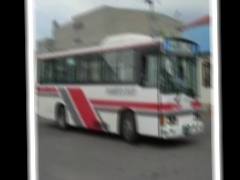bus: (37, 28, 204, 144)
